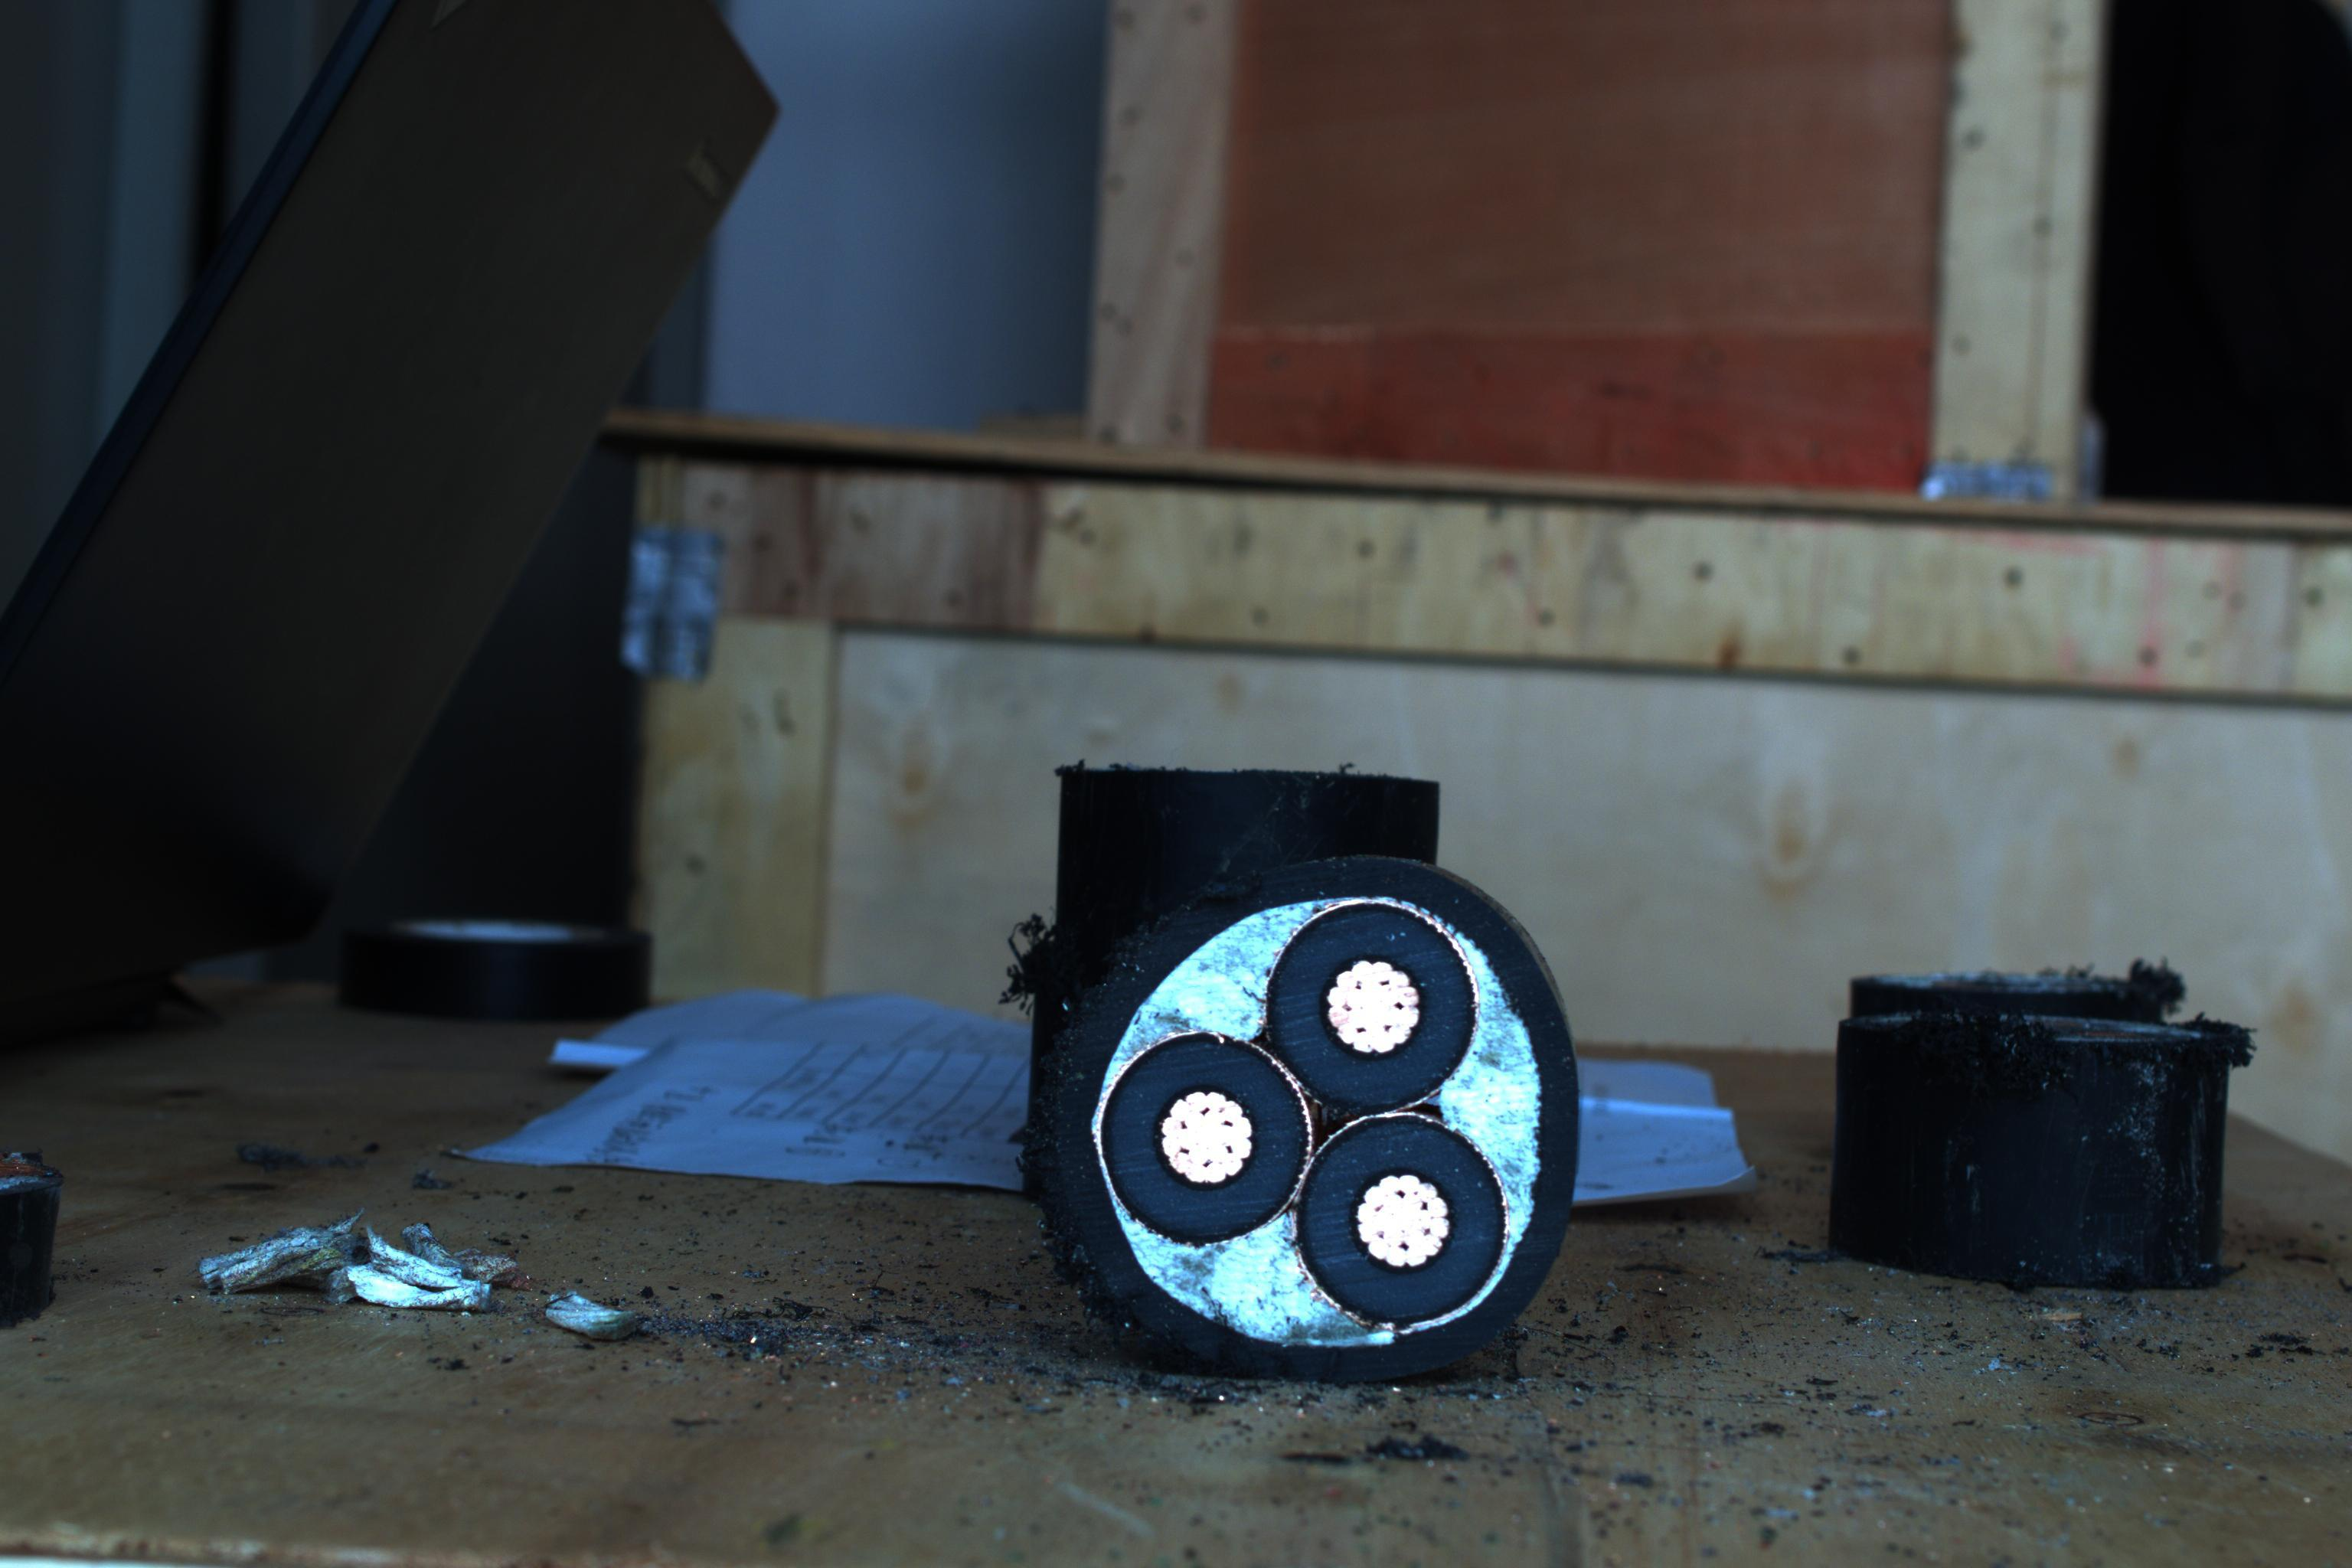YJV_8.7_10kV_3x70: (1027, 863, 1582, 1379)
